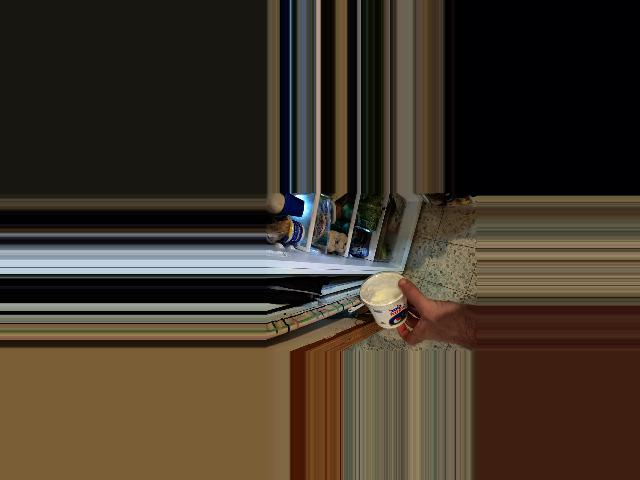cotage: (354, 275, 408, 326)
